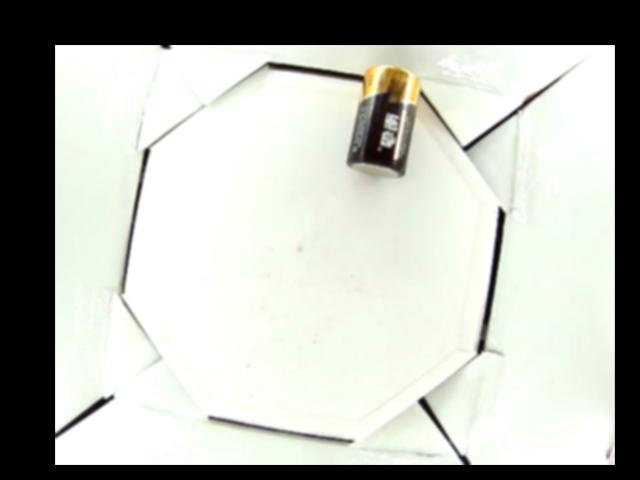Battery: (348, 63, 422, 178)
